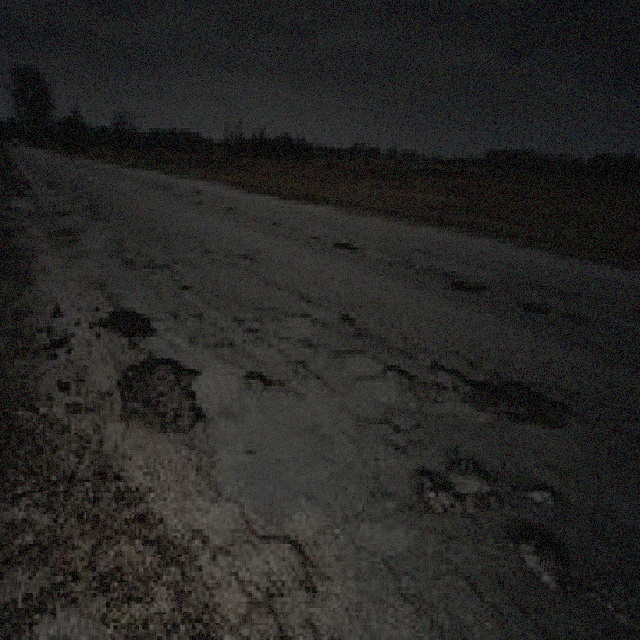pothole: (433, 354, 574, 427), (112, 354, 203, 433), (418, 454, 500, 516), (507, 523, 573, 595), (93, 303, 158, 339), (522, 482, 558, 504)
